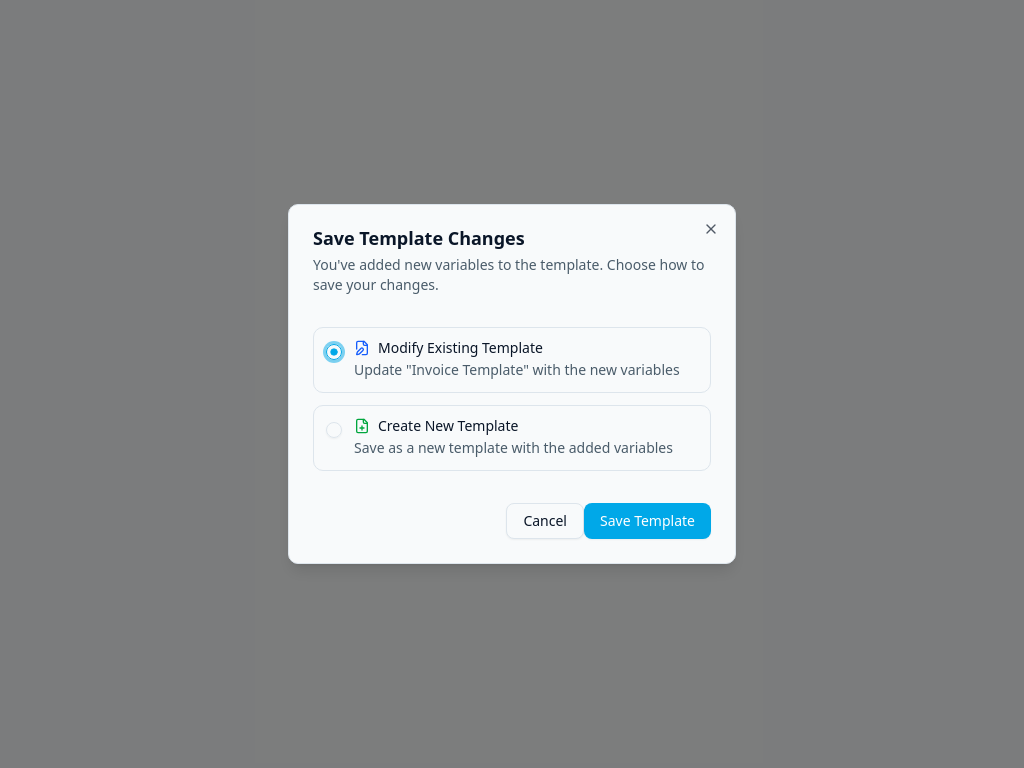
Test: SaveTemplateDialog › shows name input when create option is selected
# Click on create option
Click the radio button named "create new template" next to "Create New Template" at (334, 430), box [326,422,342,438]
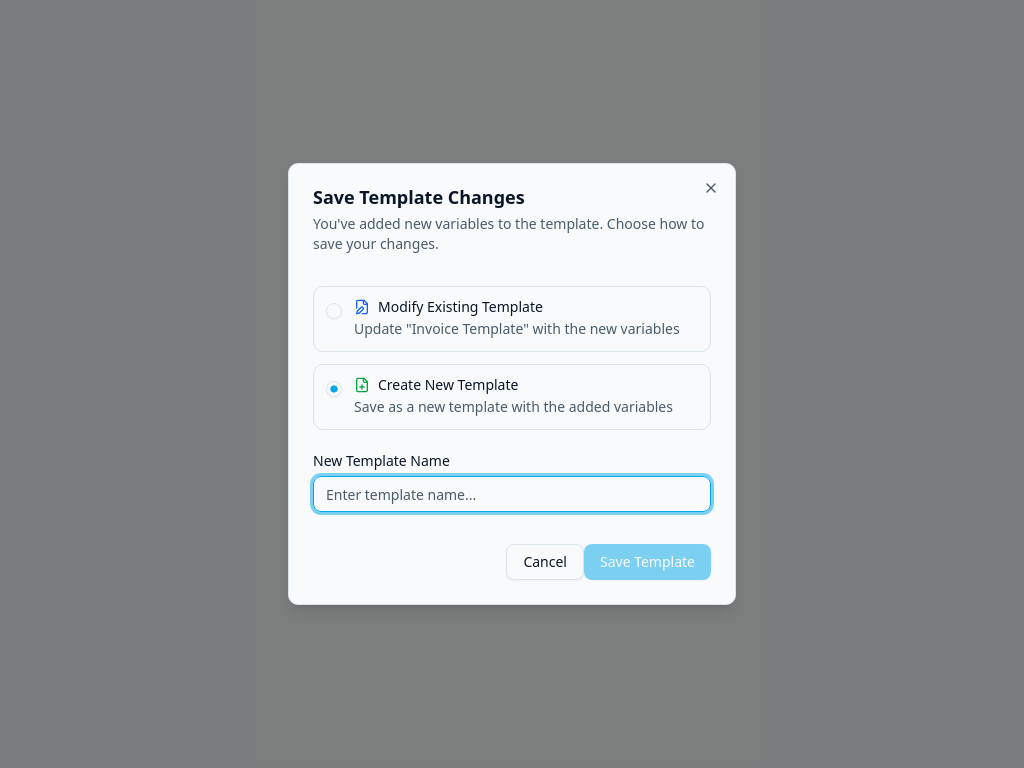
Expected: the field labelled "New Template Name" is shown, [313,476,711,512]
